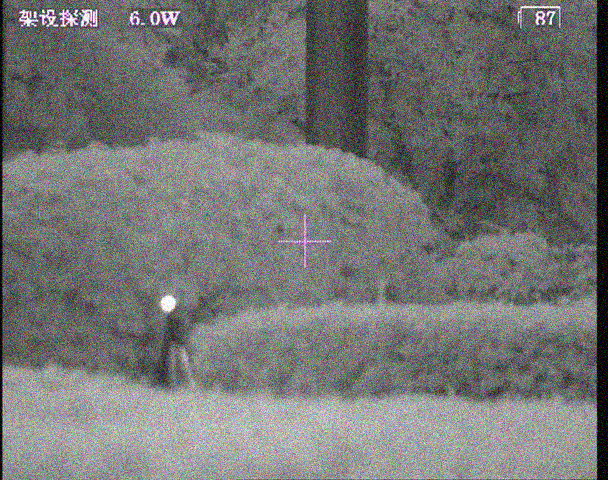my: (158, 295, 177, 313)
